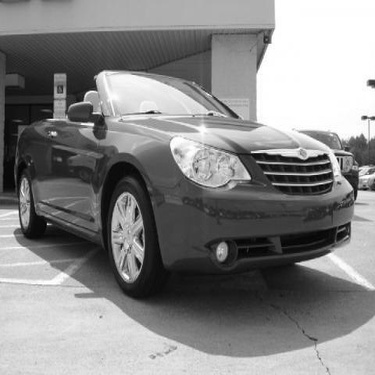car: (13, 65, 361, 303), (278, 119, 362, 208), (343, 153, 374, 195), (355, 167, 359, 184)
